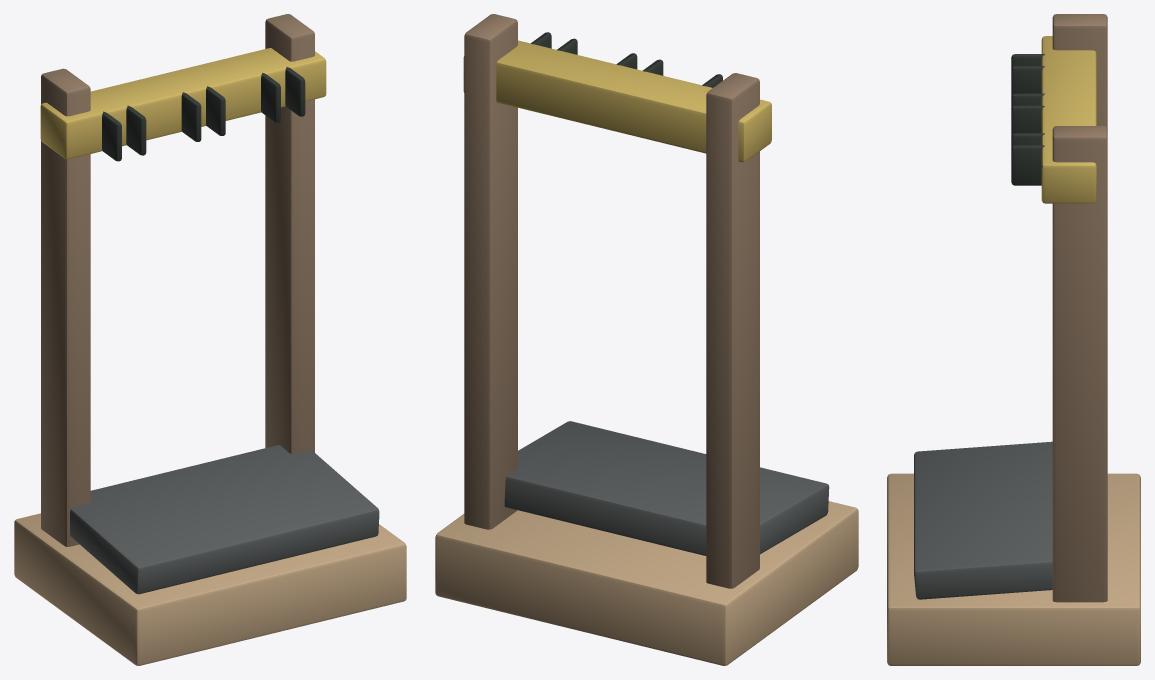
The model's file is demo_club_rack.glb.
The picture shows the model from 3 angles, left to right: view 1: azimuth 30°, elevation 25°; view 2: azimuth 150°, elevation 25°; view 3: azimuth 270°, elevation 25°; orthographic projection. The views are drawn at different scales.
Visible parts, largest first — view 1: demo_club_rack; view 2: demo_club_rack; view 3: demo_club_rack.
Part boxes in pixels (box(x1,y1,x2,y2)): demo_club_rack: box(14, 14, 406, 665); demo_club_rack: box(435, 14, 858, 665); demo_club_rack: box(887, 14, 1140, 665).
Bounding box in the file's own units: 0.58 × 1.05 × 0.46.
